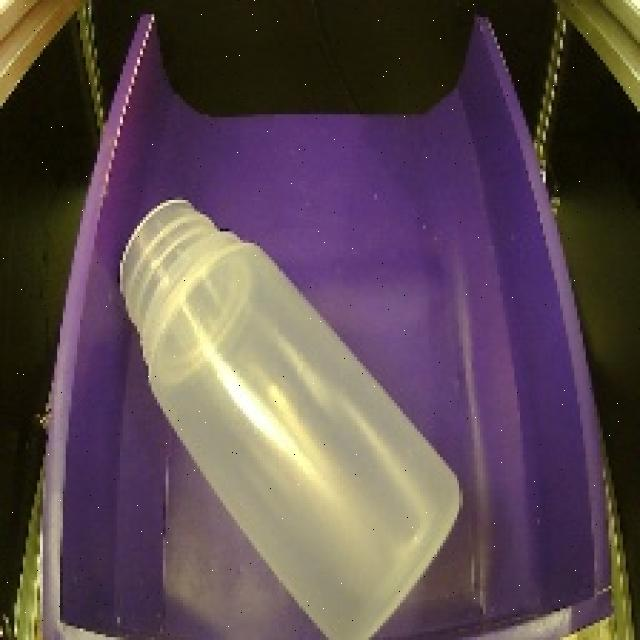plastic: (101, 181, 475, 640)
